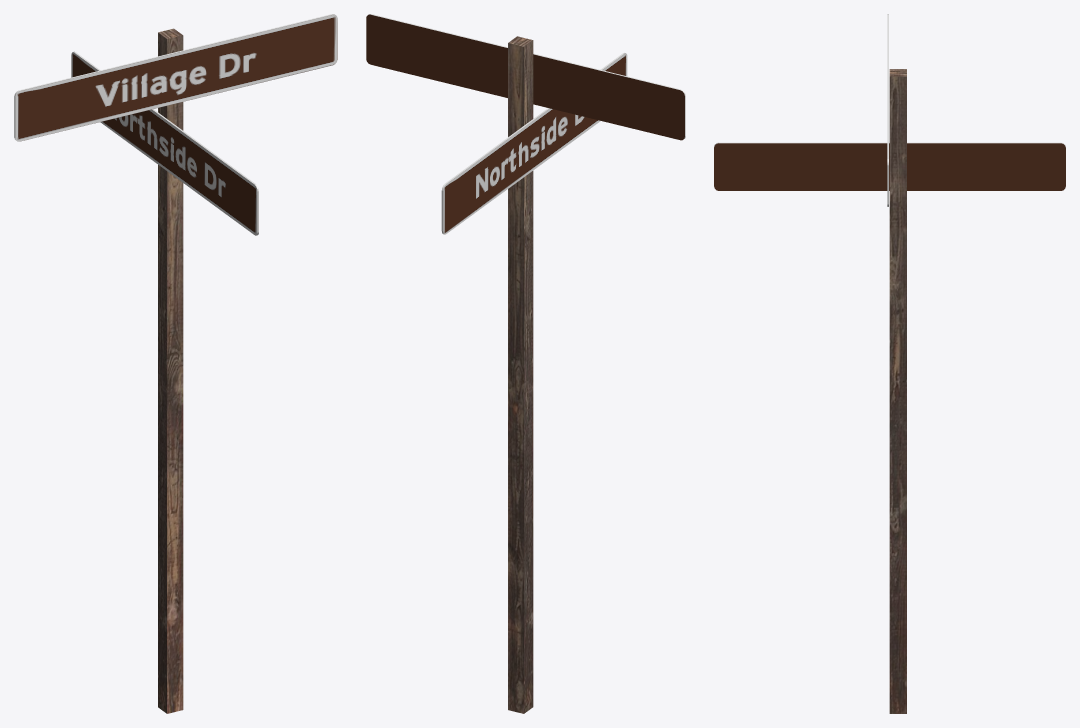
Rendered from YOS_Sign_02.fbx.
3 renders of one model, left to right at view 1: azimuth 30°, elevation 25°; view 2: azimuth 150°, elevation 25°; view 3: azimuth 270°, elevation 25°, orthographic. The views are drawn at different scales.
Visible parts, largest first — view 1: Village_Dr, WoodPost_2, Northside_Dr; view 2: WoodPost_2, Village_Dr, Northside_Dr; view 3: Northside_Dr, WoodPost_2.
Boxes of the visible parts, x1,y1,x2,y2 form: Village_Dr: (14,14,337,141); WoodPost_2: (158,28,183,713); Northside_Dr: (71,51,258,235); WoodPost_2: (508,36,533,713); Village_Dr: (366,14,685,140); Northside_Dr: (441,53,627,234); Northside_Dr: (714,142,1065,190); WoodPost_2: (889,69,906,713).
Size of the model in its own units: 100 by 200 by 100.
